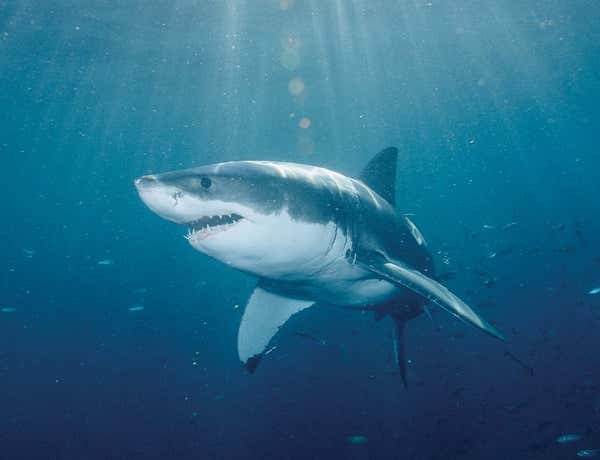shark: (134, 137, 536, 385)
